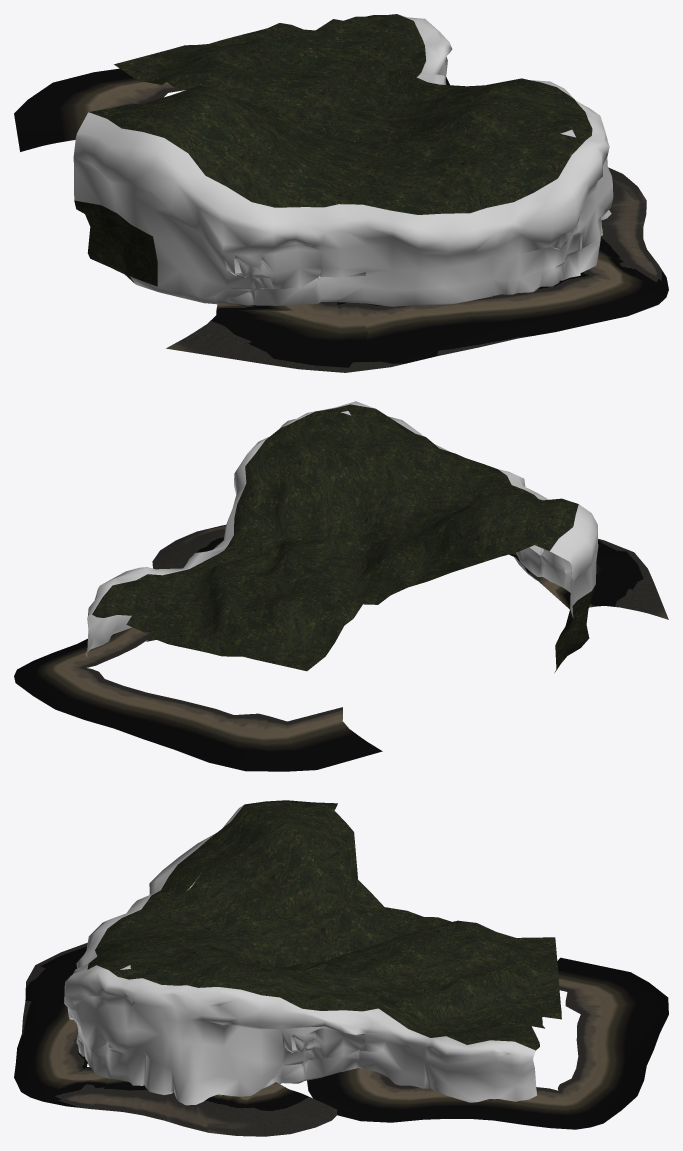
File: 山体左.FBX
3 renders of one model, top to bottom at view 1: azimuth 30°, elevation 25°; view 2: azimuth 150°, elevation 25°; view 3: azimuth 270°, elevation 25°, orthographic. The views are drawn at different scales.
Visible parts, largest first — view 1: Plane7376, st003; view 2: Plane7376, st003; view 3: Plane7376, st003.
Part boxes in pixels (x1=…): Plane7376: x1=73, y1=14, x2=613, y2=306; st003: x1=14, y1=68, x2=668, y2=372; Plane7376: x1=85, y1=401, x2=598, y2=672; st003: x1=14, y1=525, x2=668, y2=771; Plane7376: x1=64, y1=800, x2=561, y2=1105; st003: x1=14, y1=943, x2=668, y2=1136.
Bounding box in the file's own units: 67974 × 21135 × 86507.
